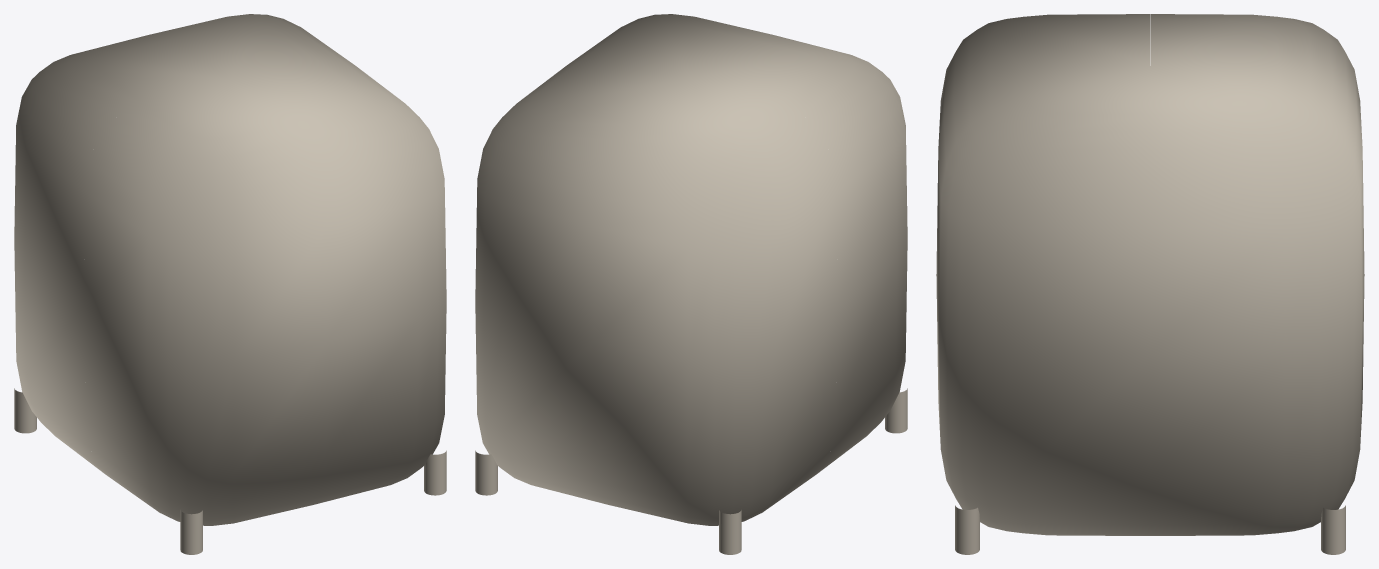
The model's file is muuto-fiber-lounge-filouwon04041-g2-proxy.glb.
The picture shows the model from 3 angles, left to right: view 1: azimuth 30°, elevation 25°; view 2: azimuth 150°, elevation 25°; view 3: azimuth 270°, elevation 25°; orthographic projection. The views are drawn at different scales.
Parts seen in each view (by area): view 1: proxy_body, leg (×3); view 2: proxy_body, leg (×3); view 3: proxy_body, leg (×2).
Part boxes in pixels (x1,y1,x2,y2): proxy_body: (14,14,446,525); leg (×3): (14,388,446,554); proxy_body: (475,14,907,525); leg (×3): (475,388,907,554); proxy_body: (936,14,1364,535); leg (×2): (955,505,1345,554).
Size of the model in its own units: 0.6 by 0.744 by 0.69.
